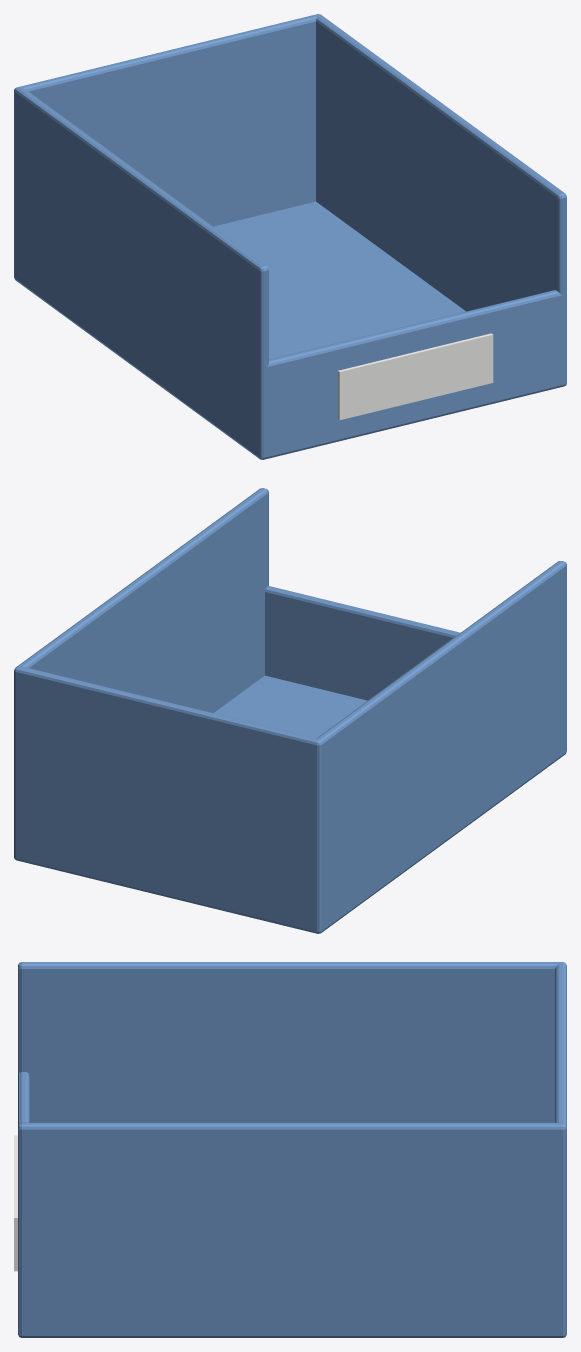
Rendered from part_bin_blue.fbx.
The picture shows the model from 3 angles, top to bottom: view 1: azimuth 30°, elevation 25°; view 2: azimuth 150°, elevation 25°; view 3: azimuth 270°, elevation 25°; orthographic projection. The views are drawn at different scales.
Parts seen in each view (by area): view 1: part_bin_blue; view 2: part_bin_blue; view 3: part_bin_blue.
Boxes of the visible parts, x1,y1,x2,y2 form: part_bin_blue: [14, 14, 566, 459]; part_bin_blue: [14, 488, 566, 933]; part_bin_blue: [14, 962, 566, 1337].
Size of the model in its own units: 0.2 by 0.12 by 0.282.
